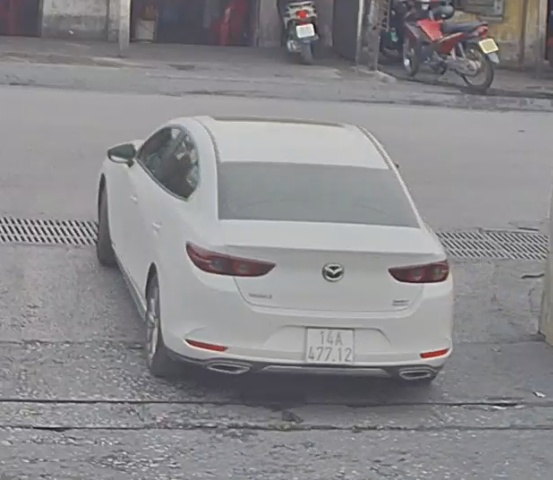vehicle plate: (304, 324, 355, 367)
